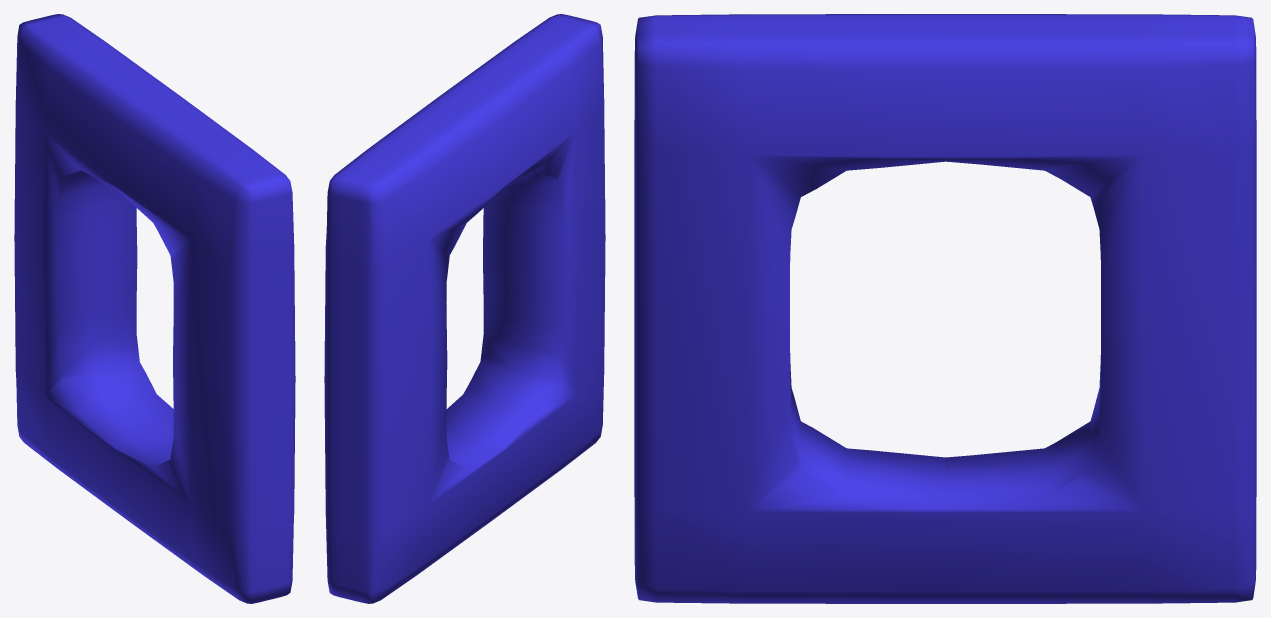
File: Duvar1xPencere(2).fbx
The picture shows the model from 3 angles, left to right: view 1: azimuth 30°, elevation 25°; view 2: azimuth 150°, elevation 25°; view 3: azimuth 270°, elevation 25°; orthographic projection. The views are drawn at different scales.
Visible parts, largest first — view 1: Duvar1xPencere(2); view 2: Duvar1xPencere(2); view 3: Duvar1xPencere(2).
Part boxes in pixels (x1,y1,x2,y2): Duvar1xPencere(2): (14,14,295,603); Duvar1xPencere(2): (324,14,605,603); Duvar1xPencere(2): (634,14,1256,603).
Bounding box in the file's own units: 40 × 200 × 200.
